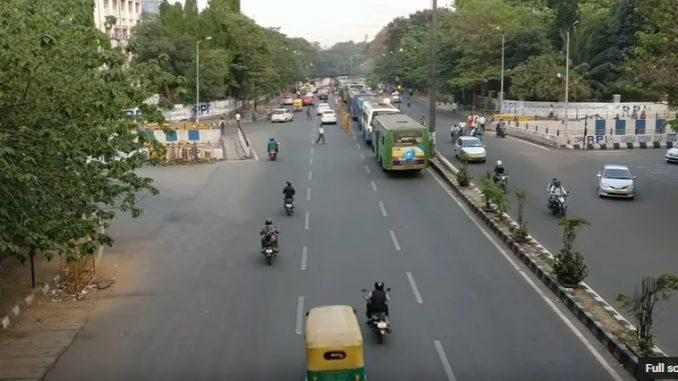car: (301, 300, 365, 381), (369, 114, 431, 181), (591, 161, 641, 207), (354, 97, 404, 142), (450, 131, 491, 163)
motocar: (358, 276, 398, 348), (252, 218, 285, 276), (542, 174, 575, 215), (483, 153, 512, 187), (278, 180, 303, 219), (261, 138, 281, 165)
person: (312, 122, 333, 149)
